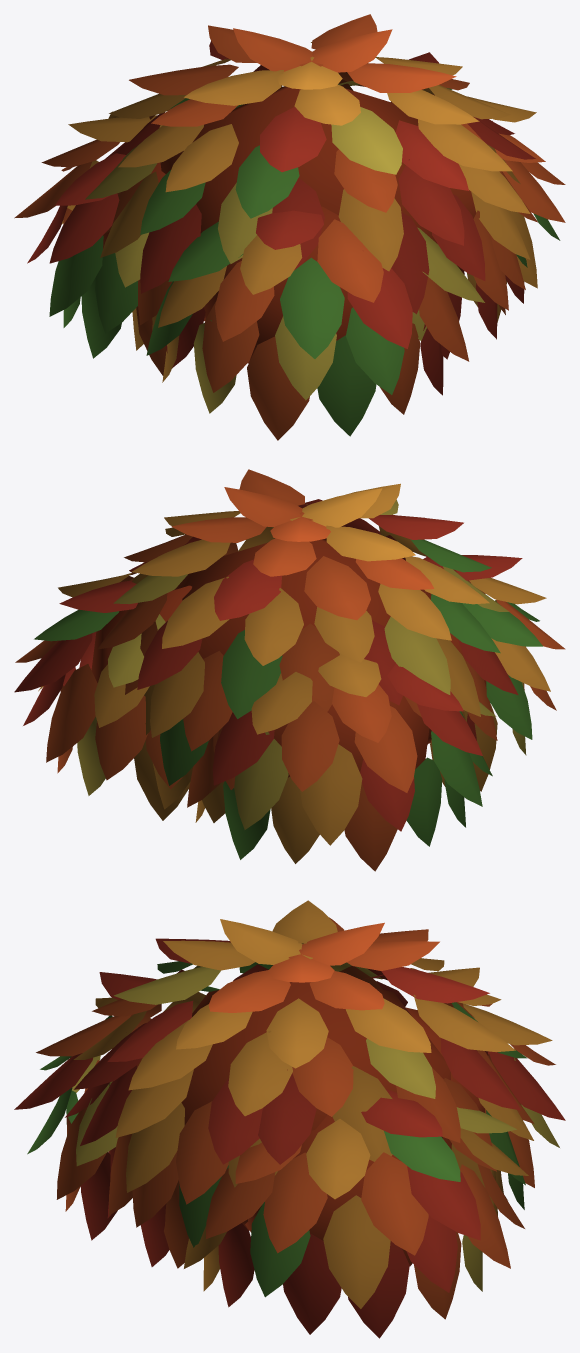
The model's file is bush_fall_lod1.glb.
The picture shows the model from 3 angles, top to bottom: view 1: azimuth 30°, elevation 25°; view 2: azimuth 150°, elevation 25°; view 3: azimuth 270°, elevation 25°; orthographic projection. The views are drawn at different scales.
Parts seen in each view (by area): view 1: bush_fall.001; view 2: bush_fall.001; view 3: bush_fall.001.
Boxes of the visible parts, x1,y1,x2,y2 form: bush_fall.001: [14, 14, 565, 440]; bush_fall.001: [14, 469, 565, 871]; bush_fall.001: [14, 900, 565, 1338].
Size of the model in its own units: 1.44 by 0.8486 by 1.41.
